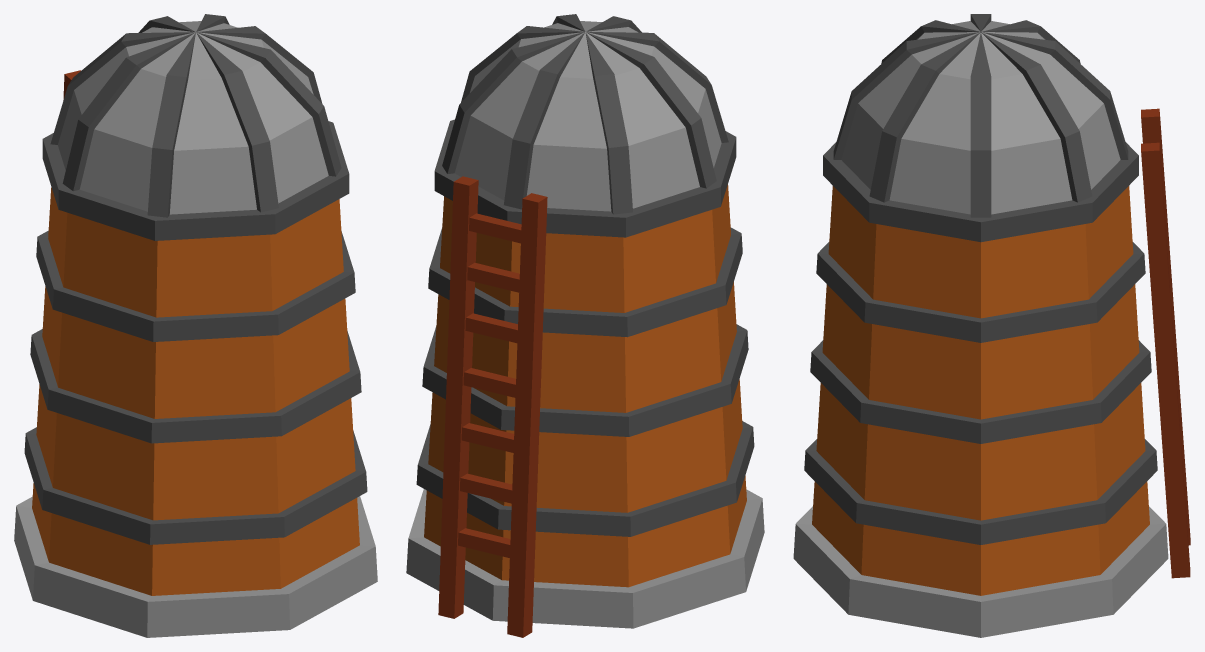
The model's file is Silo.fbx.
The picture shows the model from 3 angles, left to right: view 1: azimuth 30°, elevation 25°; view 2: azimuth 150°, elevation 25°; view 3: azimuth 270°, elevation 25°; orthographic projection.
Visible parts, largest first — view 1: Silo; view 2: Silo; view 3: Silo.
Part boxes in pixels (x1,y1,x2,y2): Silo: [14, 14, 377, 637]; Silo: [406, 14, 764, 637]; Silo: [793, 14, 1190, 637].
Bounding box in the file's own units: 142 × 221 × 151.
